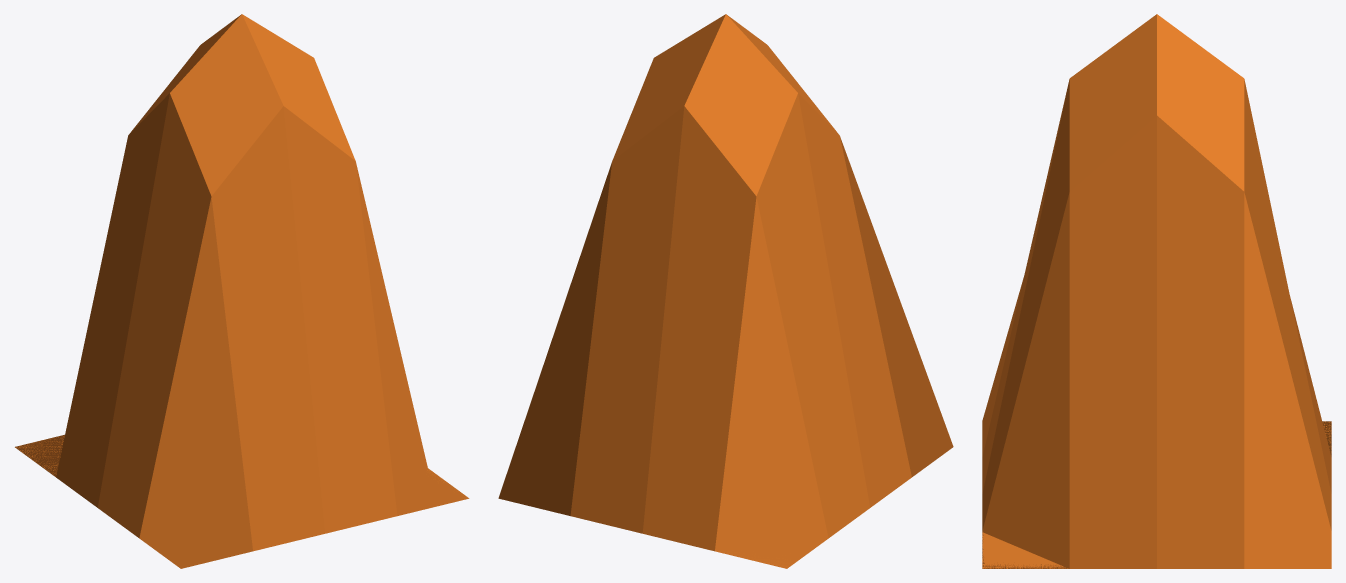
The model's file is mountain2 .fbx.
3 renders of one model, left to right at view 1: azimuth 30°, elevation 25°; view 2: azimuth 150°, elevation 25°; view 3: azimuth 270°, elevation 25°, orthographic. The views are drawn at different scales.
Visible parts, largest first — view 1: Plane; view 2: Plane; view 3: Plane.
Boxes of the visible parts, left/top/right/bottom form: Plane: left=15, top=14, right=469, bottom=568; Plane: left=498, top=14, right=953, bottom=568; Plane: left=982, top=14, right=1331, bottom=568.
Bounding box in the file's own units: 200 × 304 × 200.
